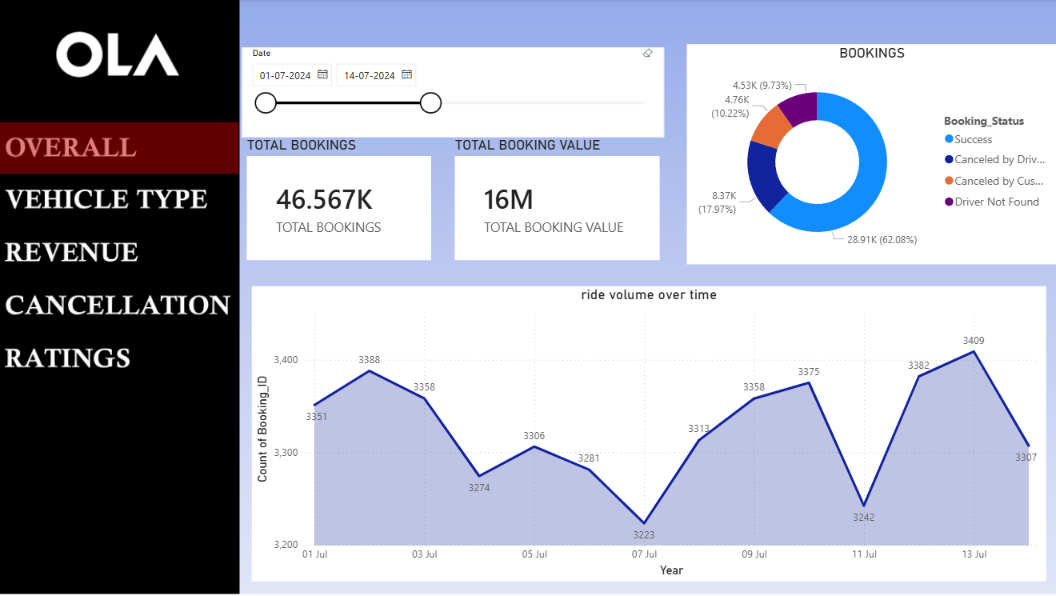

The dashboard page shown, as its layout file describes it:
{"tool":"powerbi","page":{"name":"overall","canvas":[1280,720],"ordinal":0},"visuals":[{"type":"actionButton","box":[0,208.6,295,68.6],"z":0},{"type":"actionButton","box":[1.4,277.2,295,68.6],"z":1000},{"type":"actionButton","box":[0,345.8,295,68.6],"z":2000},{"type":"actionButton","box":[0,403.4,295,68.6],"z":3000},{"type":"lineChart","title":"ride volume over time","fields":{"Y":["CountNonNull(July.Booking_ID)"],"Category":["July.Date.Variation.Date Hierarchy.Year","July.Date.Variation.Date Hierarchy.Quarter","July.Date.Variation.Date Hierarchy.Month","July.Date.Variation.Date Hierarchy.Day"]},"box":[307.1,345.7,958.6,355.7],"z":4000},{"type":"donutChart","title":"BOOKINGS","fields":{"Category":["July.Booking_Status"],"Y":["CountNonNull(July.Booking_ID)"]},"box":[832.9,54.3,447.1,265.7],"z":5000},{"type":"slicer","fields":{"Values":["July.Date"]},"box":[295,57.6,509.1,108.4],"z":6000},{"type":"cardVisual","title":"TOTAL BOOKINGS","fields":{"Data":["CountNonNull(July.Booking_ID)"]},"box":[297.1,165.7,232.9,154.3],"z":7000},{"type":"cardVisual","title":"TOTAL BOOKING VALUE","fields":{"Data":["Sum(July.Booking_Value)"]},"box":[547.1,165.7,257.1,154.3],"z":8000}]}

Visuals, with their boxes in screenshot pixels (x1, y1, x2, y2), scaled from the page's 1280x720 canvas onto the 1056x596 screenshot:
actionButton: bbox=[0, 173, 243, 229]
actionButton: bbox=[1, 229, 245, 286]
actionButton: bbox=[0, 286, 243, 343]
actionButton: bbox=[0, 334, 243, 391]
"ride volume over time" lineChart: bbox=[253, 286, 1044, 581]
"BOOKINGS" donutChart: bbox=[687, 45, 1055, 265]
slicer - July.Date: bbox=[243, 48, 663, 137]
"TOTAL BOOKINGS" cardVisual: bbox=[245, 137, 437, 265]
"TOTAL BOOKING VALUE" cardVisual: bbox=[451, 137, 663, 265]
